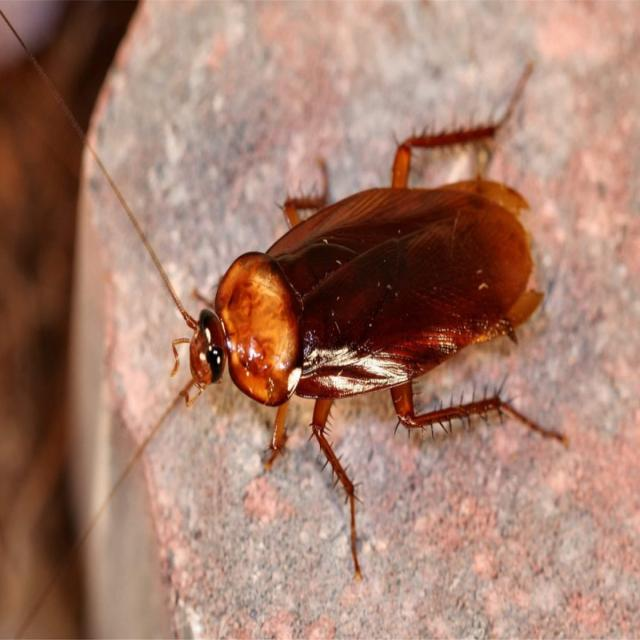Cockroach: (147, 47, 563, 554)
